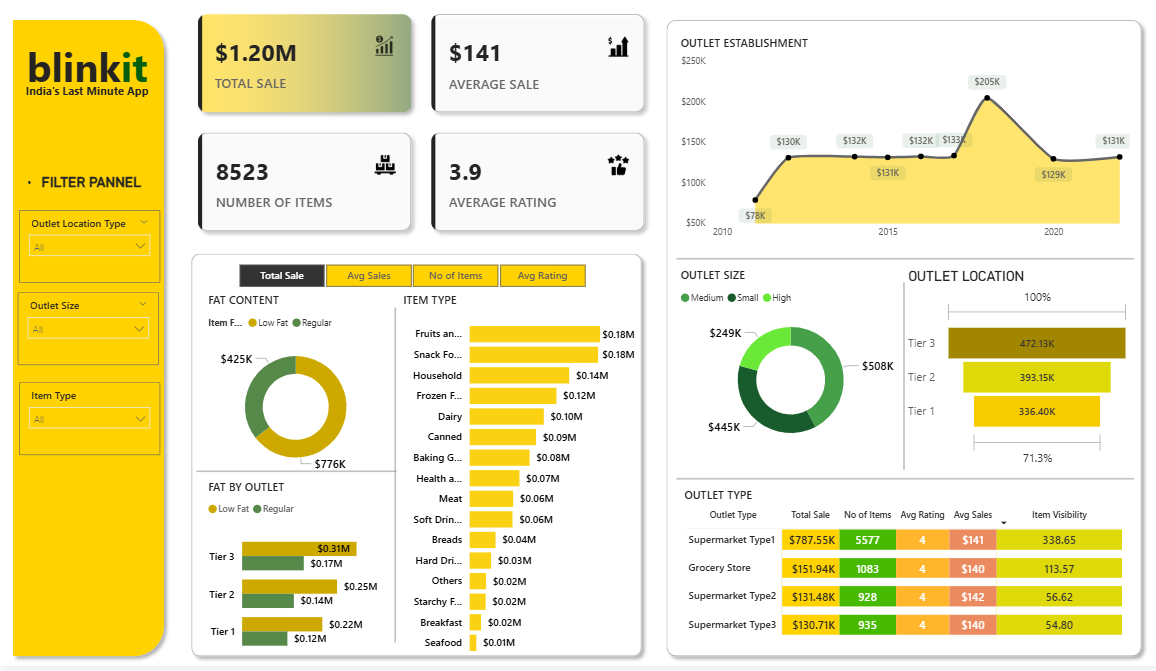

What the dashboard file says about the page in this screenshot:
{"tool":"powerbi","page":{"name":"Page 1","canvas":[1400,800],"ordinal":0},"visuals":[{"type":"shape","box":[7.5,15,199.6,781.9],"z":0},{"type":"textbox","box":[15,42,181.6,75],"z":1},{"type":"textbox","box":[27,94.6,157.6,45],"z":2},{"type":"cardVisual","fields":{"Data":["BlinkIT Grocery Data.Total Sale","BlinkIT Grocery Data.Avg Sales","BlinkIT Grocery Data.No of Items","BlinkIT Grocery Data.Avg Rating"]},"box":[222.1,0,570.3,295.7],"z":3},{"type":"shape","box":[222.1,295.7,558.3,501.3],"z":4},{"type":"donutChart","title":"FAT CONTENT","fields":{"Category":["BlinkIT Grocery Data.Item Fat Content"],"Y":["BlinkIT Grocery Data.Total Sale"]},"box":[246.1,351.2,220.6,229.6],"z":5},{"type":"slicer","fields":{"Values":["Metrics.Metrics"]},"box":[262.7,310.7,465.3,40.5],"z":6},{"type":"clusteredBarChart","title":" FAT BY OUTLET","fields":{"Category":["BlinkIT Grocery Data.Outlet Location Type"],"Y":["BlinkIT Grocery Data.Total Sale"],"Series":["BlinkIT Grocery Data.Item Fat Content"]},"box":[246.1,574.8,234.1,225.1],"z":7},{"type":"barChart","title":"ITEM TYPE","fields":{"Category":["BlinkIT Grocery Data.Item Type"],"Y":["BlinkIT Grocery Data.Total Sale"]},"box":[480.3,351.2,288.2,445.8],"z":10},{"type":"shape","box":[792.5,15,588.3,781.9],"z":11},{"type":"lineChart","title":"OUTLET ESTABLISHMENT","fields":{"Category":["BlinkIT Grocery Data.Outlet Establishment Year"],"Y":["BlinkIT Grocery Data.Total Sale"]},"box":[813.5,42,549.3,253.6],"z":12},{"type":"shape","box":[813.5,282.2,549.3,57],"z":13},{"type":"shape","box":[456.3,369.2,39,402.2],"z":14},{"type":"shape","box":[237.1,546.3,240.1,39],"z":15},{"type":"donutChart","title":"OUTLET SIZE","fields":{"Y":["BlinkIT Grocery Data.Total Sale"],"Category":["BlinkIT Grocery Data.Outlet Size"]},"box":[813.5,321.2,274.7,225.1],"z":16},{"type":"shape","box":[1067.1,339.2,39,225.1],"z":17},{"type":"funnel","title":" OUTLET LOCATION","fields":{"Y":["Sum(BlinkIT Grocery Data.Sales)"],"Category":["BlinkIT Grocery Data.Outlet Location Type"]},"box":[1086.6,321.2,276.2,244.6],"z":18},{"type":"pivotTable","title":"OUTLET TYPE","fields":{"Rows":["BlinkIT Grocery Data.Outlet Type"],"Values":["BlinkIT Grocery Data.Total Sale","BlinkIT Grocery Data.No of Items","BlinkIT Grocery Data.Avg Rating","BlinkIT Grocery Data.Avg Sales","Sum(BlinkIT Grocery Data.Item Visibility)"]},"box":[818,585.3,535.8,186.1],"z":19},{"type":"shape","box":[813.5,546.3,549.3,57],"z":20},{"type":"slicer","fields":{"Values":["BlinkIT Grocery Data.Item Type"]},"box":[24,459.3,169.6,87.1],"z":23},{"type":"slicer","fields":{"Values":["BlinkIT Grocery Data.Outlet Size"]},"box":[22.5,351.2,169.6,87.1],"z":24},{"type":"slicer","fields":{"Values":["BlinkIT Grocery Data.Outlet Location Type"]},"box":[24,252.1,169.6,87.1],"z":25},{"type":"textbox","box":[19.5,204.1,174.1,48],"z":26}]}

Visuals, with their boxes in screenshot pixels (x1, y1, x2, y2), scaled from the page's 1400x800 canvas onto the 1156x671 screenshot:
shape: 6:13:171:668
textbox: 12:35:162:98
textbox: 22:79:152:117
cardVisual - BlinkIT Grocery Data.Total Sale x BlinkIT Grocery Data.Avg Sales: 183:0:654:248
shape: 183:248:644:668
"FAT CONTENT" donutChart: 203:295:385:487
slicer - Metrics.Metrics: 217:261:601:295
" FAT BY OUTLET" clusteredBarChart: 203:482:397:670
"ITEM TYPE" barChart: 397:295:635:668
shape: 654:13:1140:668
"OUTLET ESTABLISHMENT" lineChart: 672:35:1125:248
shape: 672:237:1125:285
shape: 377:310:409:647
shape: 196:458:394:491
"OUTLET SIZE" donutChart: 672:269:899:458
shape: 881:285:913:473
" OUTLET LOCATION" funnel: 897:269:1125:475
"OUTLET TYPE" pivotTable: 675:491:1118:647
shape: 672:458:1125:506
slicer - BlinkIT Grocery Data.Item Type: 20:385:160:458
slicer - BlinkIT Grocery Data.Outlet Size: 19:295:159:368
slicer - BlinkIT Grocery Data.Outlet Location Type: 20:211:160:285
textbox: 16:171:160:211
